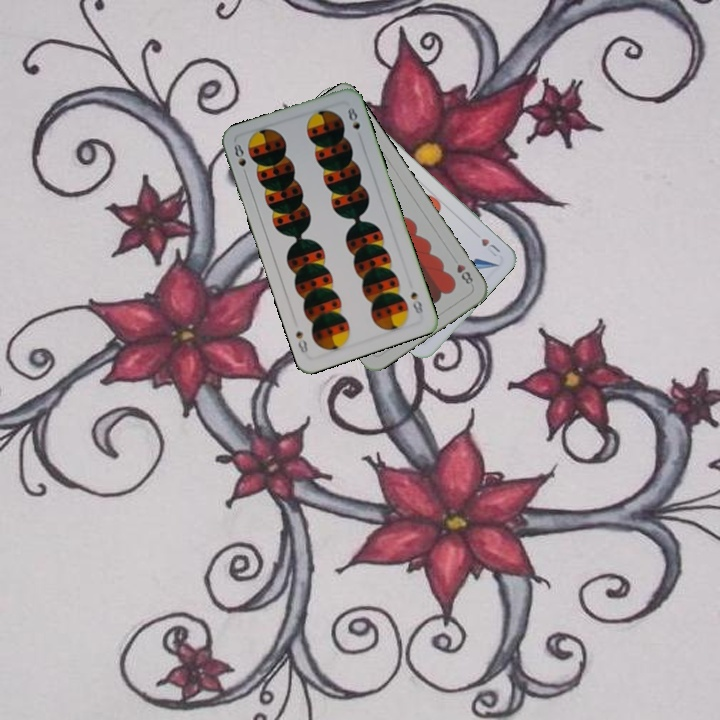H8: (452, 260, 476, 287)
HU: (477, 234, 503, 259)
S8: (406, 287, 426, 316), (230, 139, 249, 169)
